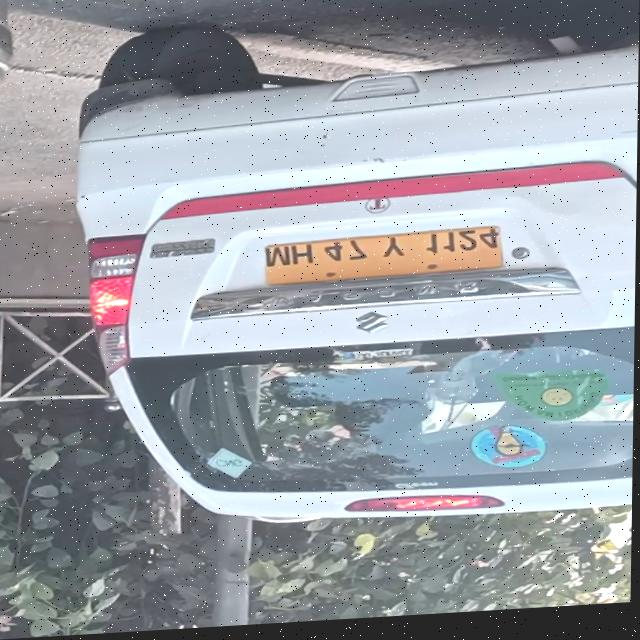plate: (261, 227, 512, 295)
